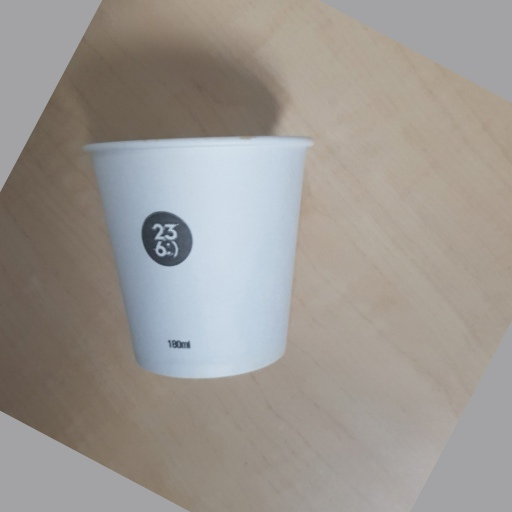Paper_1: (82, 135, 319, 379)
